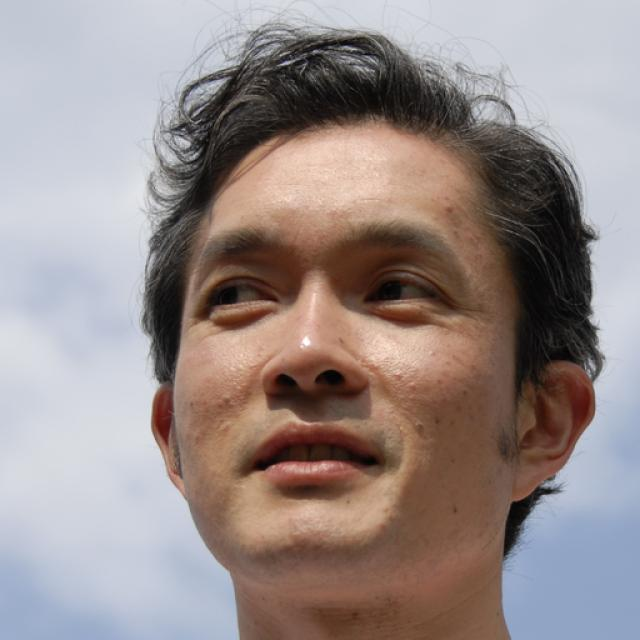Acne: (212, 390, 241, 420), (399, 373, 427, 400), (461, 224, 490, 249), (387, 366, 414, 392), (406, 416, 430, 439), (439, 199, 463, 221)
